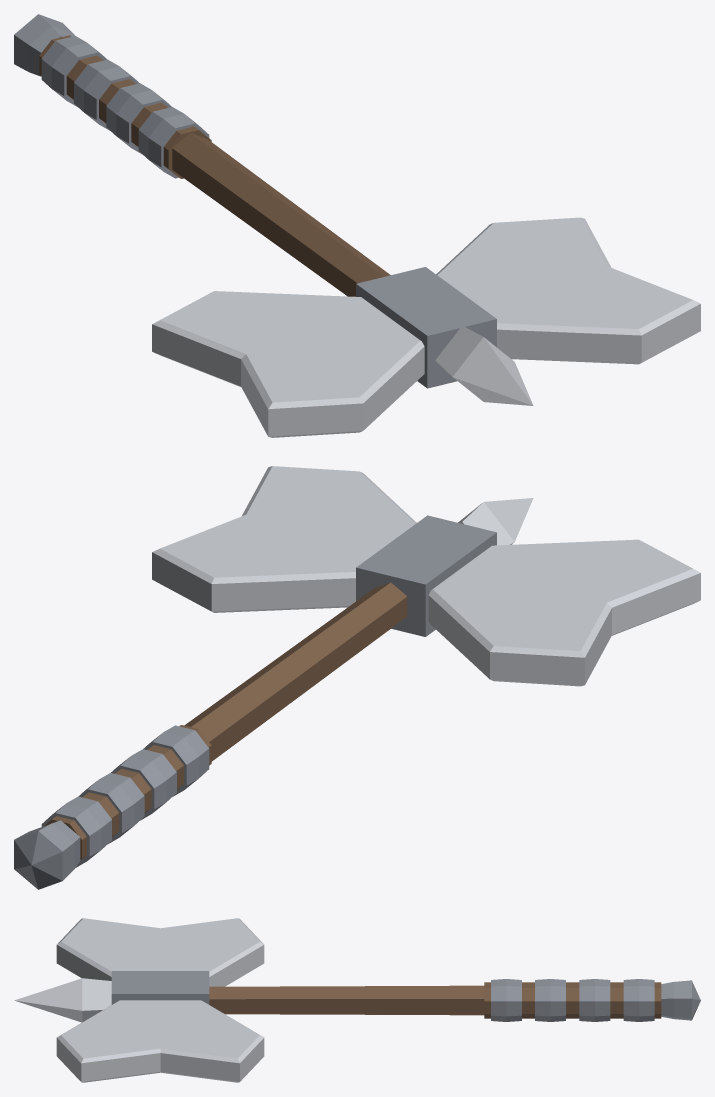
The model's file is twinbite.glb.
The picture shows the model from 3 angles, top to bottom: view 1: azimuth 30°, elevation 25°; view 2: azimuth 150°, elevation 25°; view 3: azimuth 270°, elevation 25°; orthographic projection. The views are drawn at different scales.
Parts seen in each view (by area): view 1: twinbite; view 2: twinbite; view 3: twinbite.
Part boxes in pixels (x1=…): twinbite: x1=14, y1=14, x2=700, y2=437; twinbite: x1=14, y1=466, x2=700, y2=889; twinbite: x1=14, y1=918, x2=700, y2=1082.
Bounding box in the file's own units: 0.56 × 0.0805 × 1.13.
